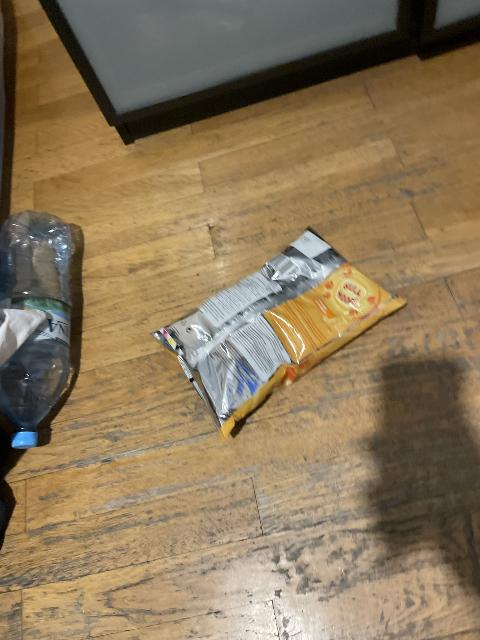Chio Hula Hoops Cheese 70g: (154, 229, 401, 440)
